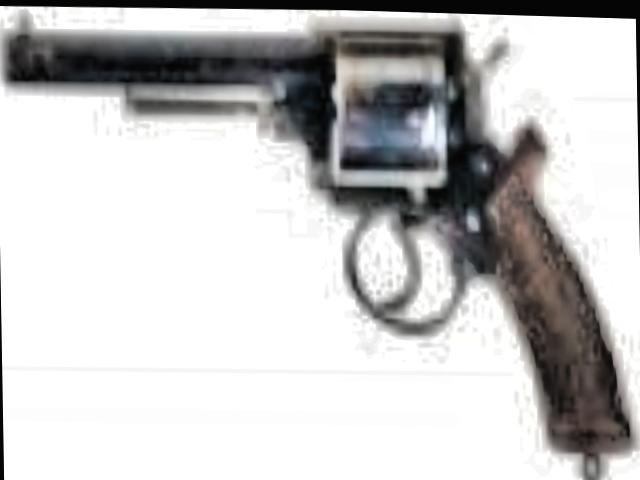pistol: (8, 3, 632, 464)
